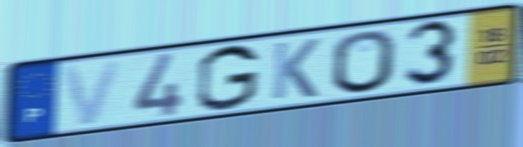3: (398, 17, 466, 89)
4: (130, 49, 187, 120)
G: (194, 43, 262, 114)
K: (269, 36, 323, 102)
O: (330, 28, 399, 97)
V: (59, 56, 127, 129)
